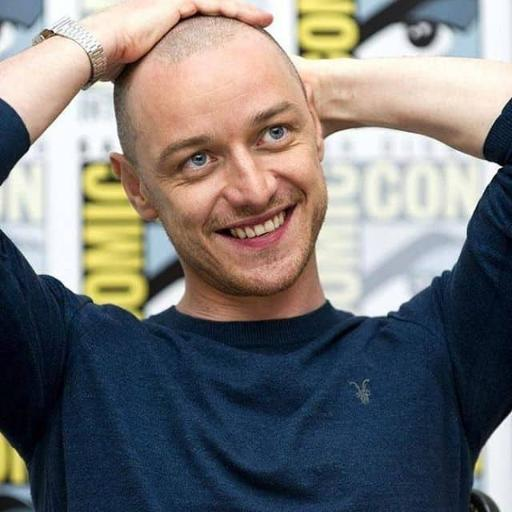left_eye: (256, 124, 300, 149)
left_lip_corner: (290, 200, 306, 214)
right_eye: (176, 152, 222, 174)
right_lip_corner: (209, 224, 226, 242)
